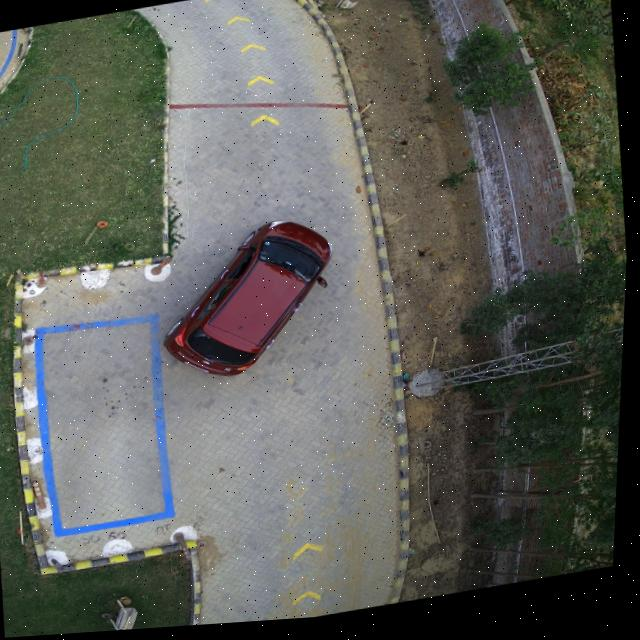car: (167, 225, 333, 380)
